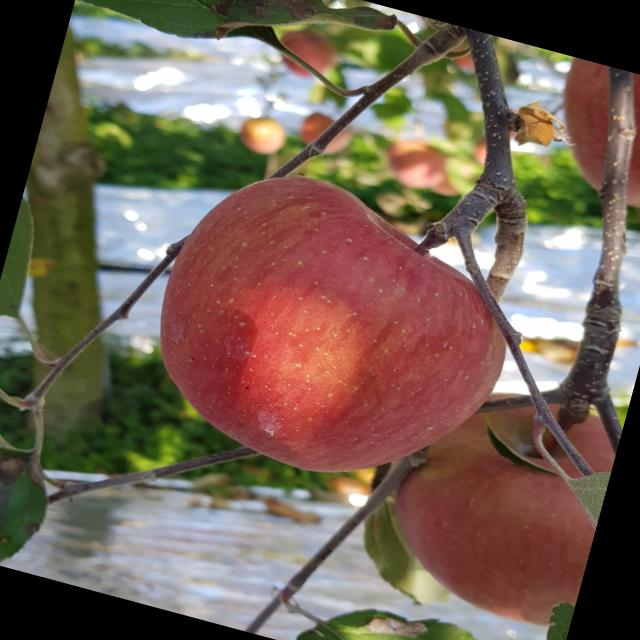fresh: (115, 137, 556, 526)
